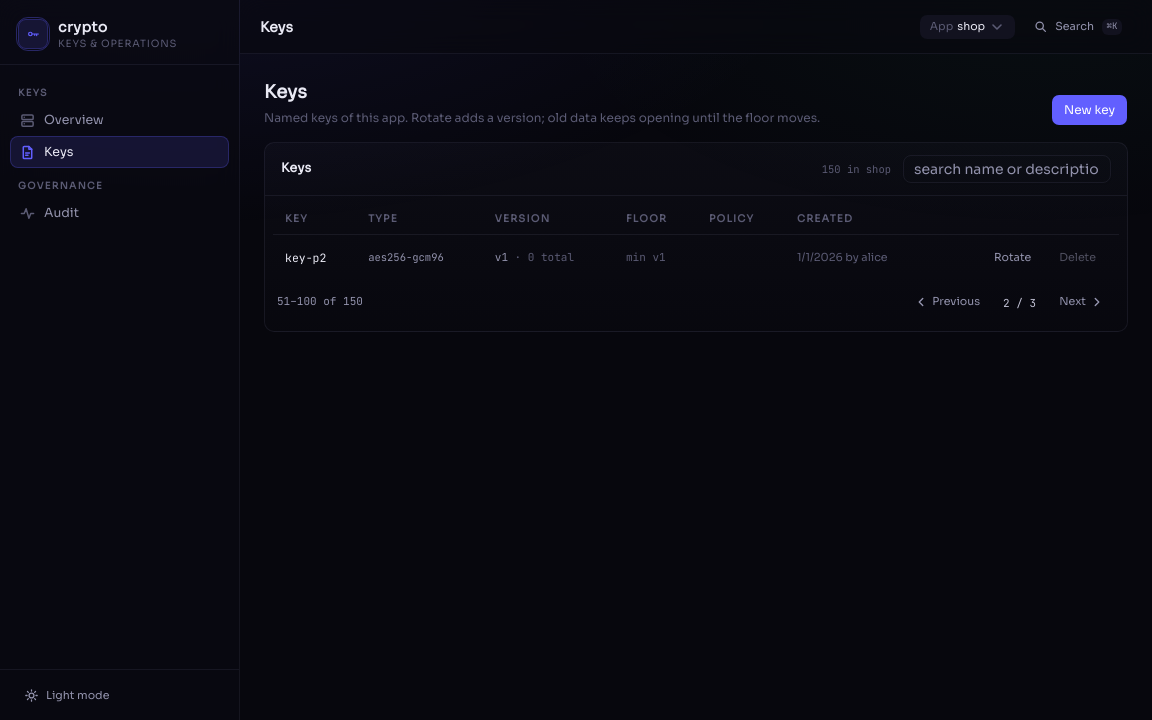
the crypto console: view state in the URL › typing replaces and goes back to page 1; paging pushes and back returns
Later steps or results of the test are not shown.
Expected: the text "key-p2" is shown, 285,250 -> 326,265
Type "pay" into the field named "Search keys" at (1007, 169), box 903,155 -> 1111,183
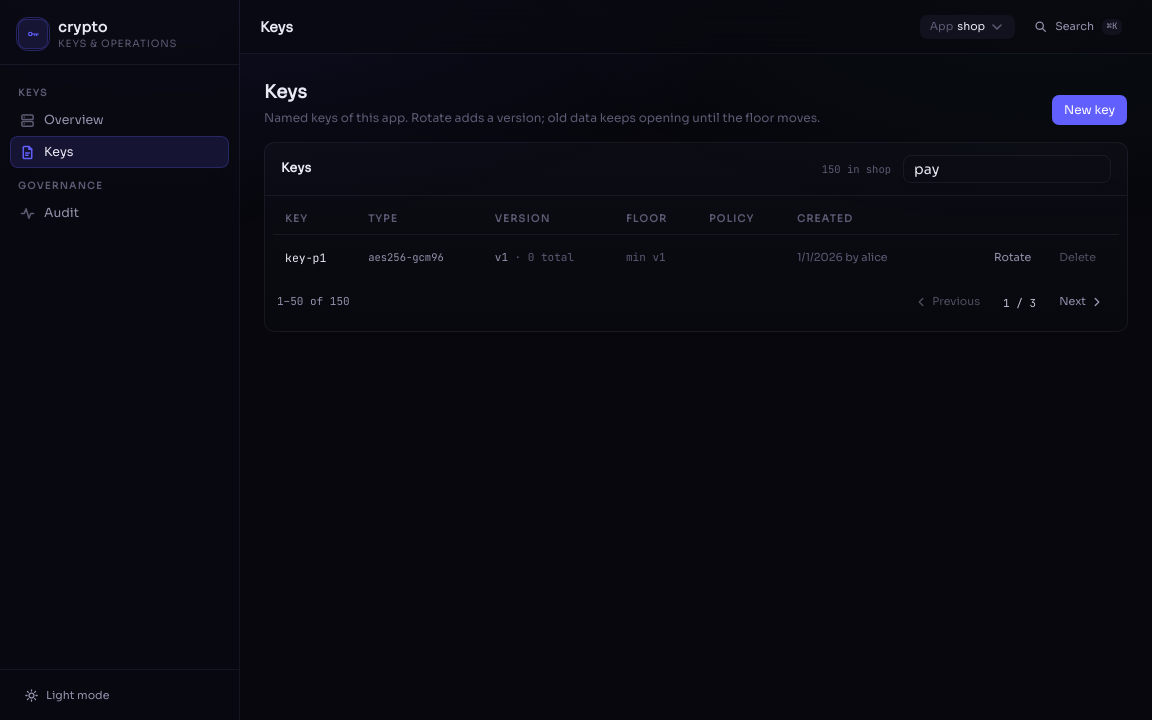
Result: the text "key-p1" is shown at 285,250 -> 326,265
Click the button with aria-label "Next page" at (1082, 302), box 1048,289 -> 1115,315
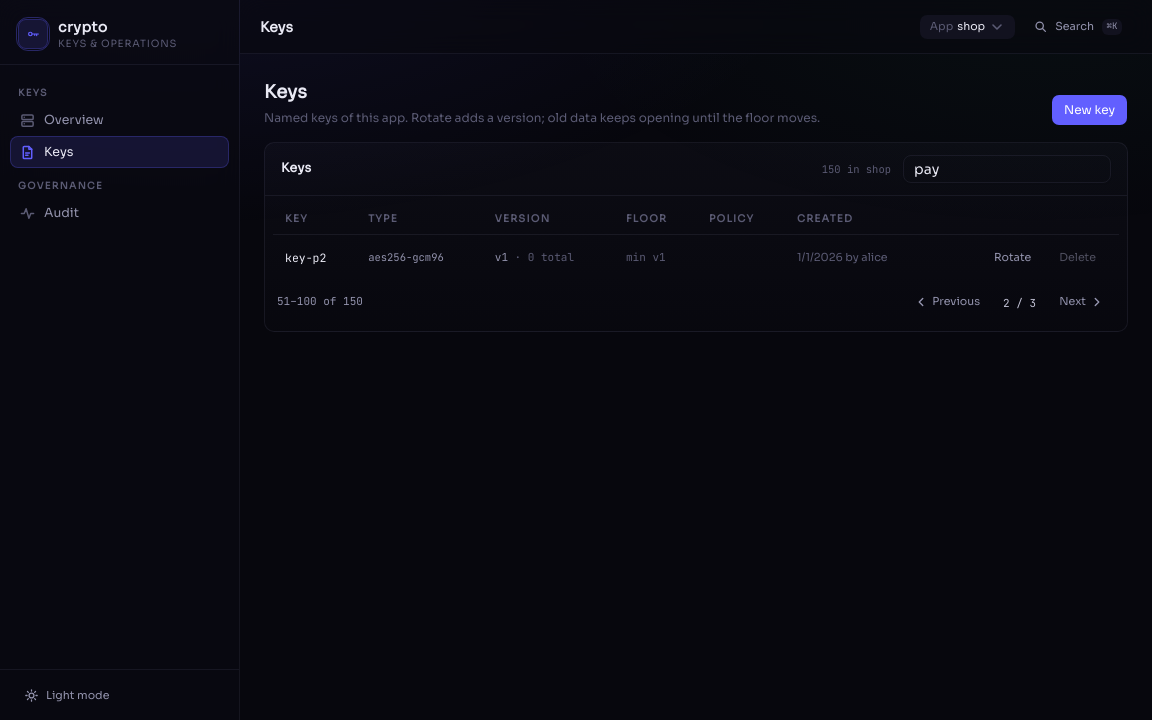
Result: the text "key-p2" is shown at 285,250 -> 326,265
